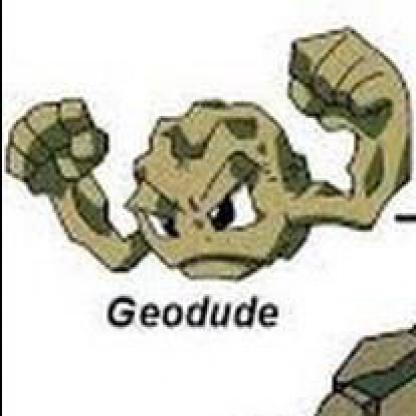Geodude: (1, 1, 415, 409)
